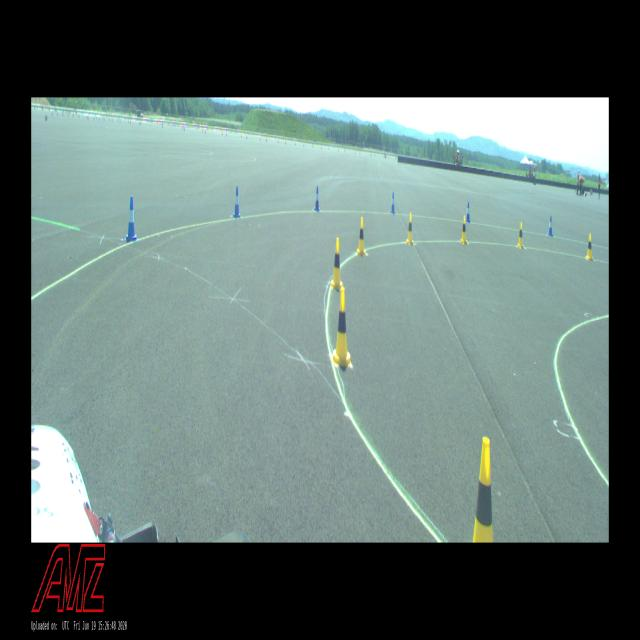blue_cone: (126, 196, 138, 242), (233, 186, 240, 218), (314, 186, 320, 211), (548, 216, 553, 236), (391, 192, 395, 214), (466, 202, 470, 222)
yellow_cone: (473, 437, 493, 542), (332, 287, 352, 367), (331, 238, 343, 289), (356, 217, 366, 255), (406, 213, 414, 245), (586, 234, 593, 260), (461, 216, 467, 244), (517, 222, 523, 248)
